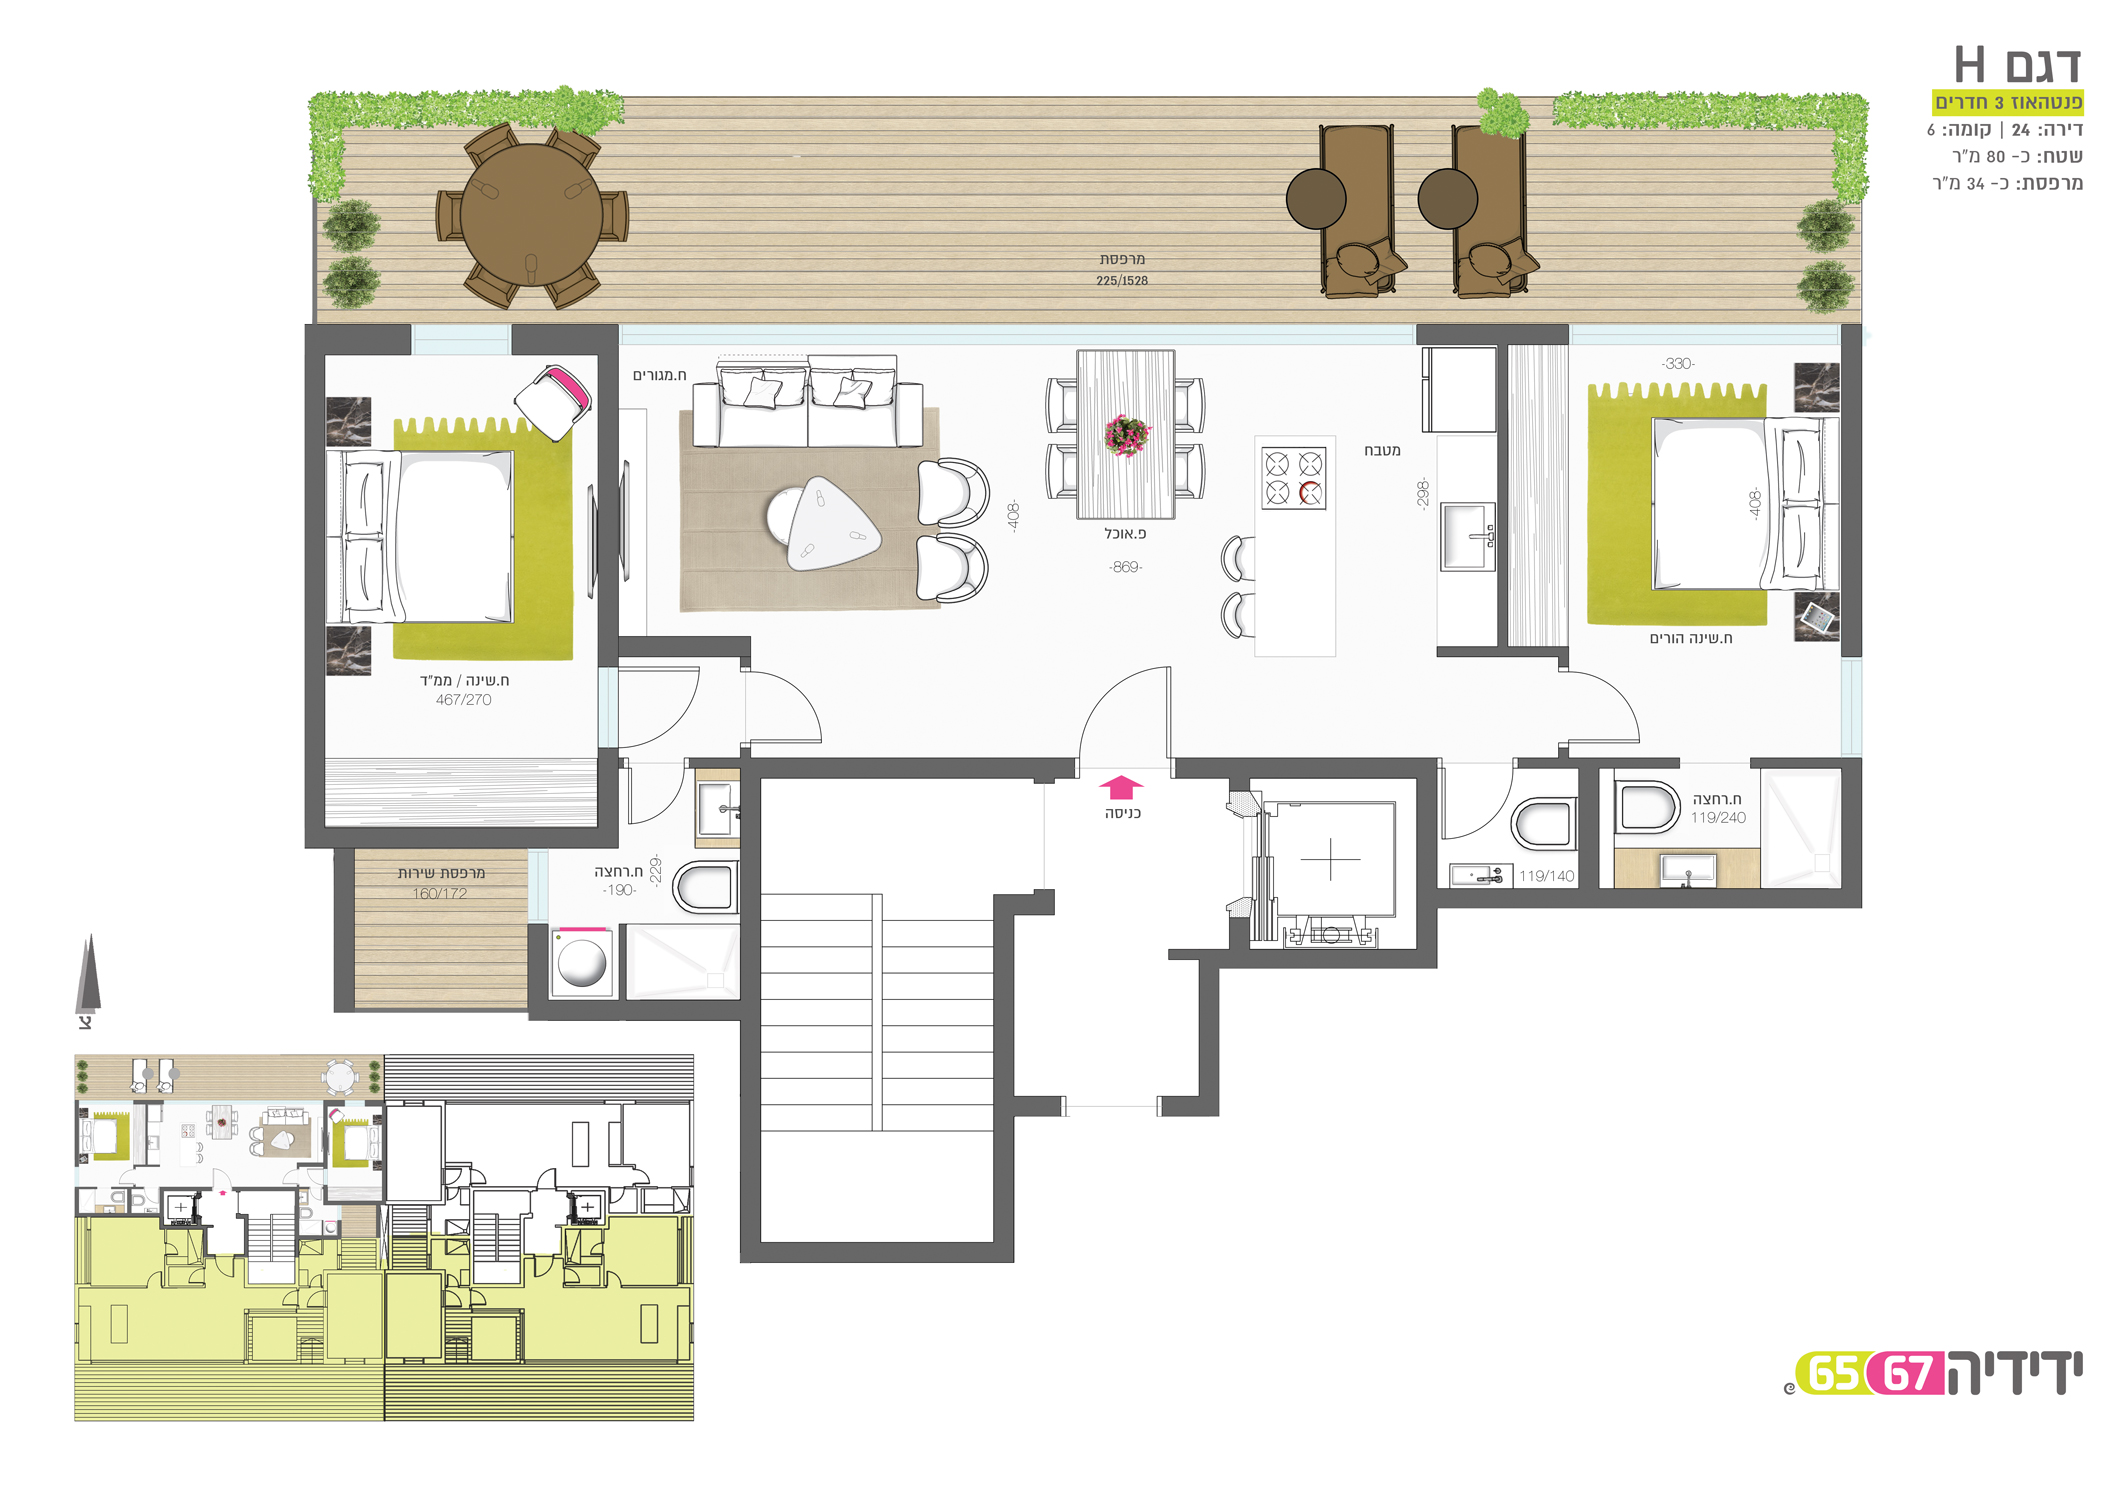door: (1063, 656, 1187, 733), (761, 661, 842, 750), (1572, 656, 1638, 755), (633, 662, 706, 750), (1443, 774, 1509, 848)
wall: (995, 897, 1060, 1263), (733, 746, 763, 1270), (302, 322, 326, 855), (312, 827, 612, 848), (330, 830, 351, 990), (527, 997, 729, 1002)
window: (1570, 326, 1829, 343), (409, 325, 504, 364), (1842, 658, 1863, 763)
